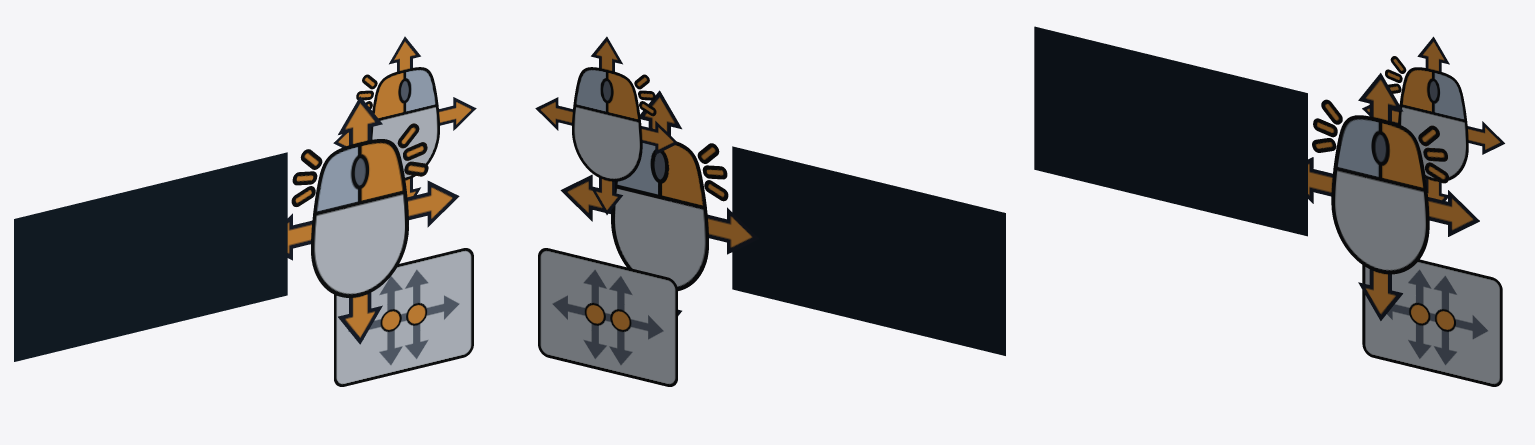
Rendered from ControlsTutorialDiagramMouse.fbx.
The picture shows the model from 3 angles, left to right: view 1: azimuth 30°, elevation 25°; view 2: azimuth 150°, elevation 25°; view 3: azimuth 330°, elevation 25°; orthographic projection.
Visible parts, largest first — view 1: backing (×2), Select, TrackpadRotate, Rotate (×2), Deselect; view 2: backing (×2), Rotate (×2), TrackpadRotate, Deselect; view 3: backing (×2), Select, TrackpadRotate, Rotate (×2), Deselect.
Part boxes in pixels (left/top/right/bottom): backing (×2): left=14, top=152, right=287, bottom=361; Select: left=311, top=123, right=428, bottom=297; TrackpadRotate: left=334, top=248, right=473, bottom=386; Rotate (×2): left=287, top=36, right=476, bottom=344; Deselect: left=291, top=139, right=408, bottom=234; backing (×2): left=732, top=146, right=1005, bottom=355; Rotate (×2): left=535, top=36, right=758, bottom=315; TrackpadRotate: left=538, top=248, right=677, bottom=386; Deselect: left=611, top=141, right=728, bottom=290; backing (×2): left=1034, top=26, right=1307, bottom=236; Select: left=1331, top=115, right=1448, bottom=274; TrackpadRotate: left=1362, top=259, right=1502, bottom=386; Rotate (×2): left=1308, top=36, right=1504, bottom=320; Deselect: left=1312, top=99, right=1429, bottom=233.
Size of the model in its own units: 0.6243 by 0.4632 by 0.00911.
5 materials, 5 textured.
